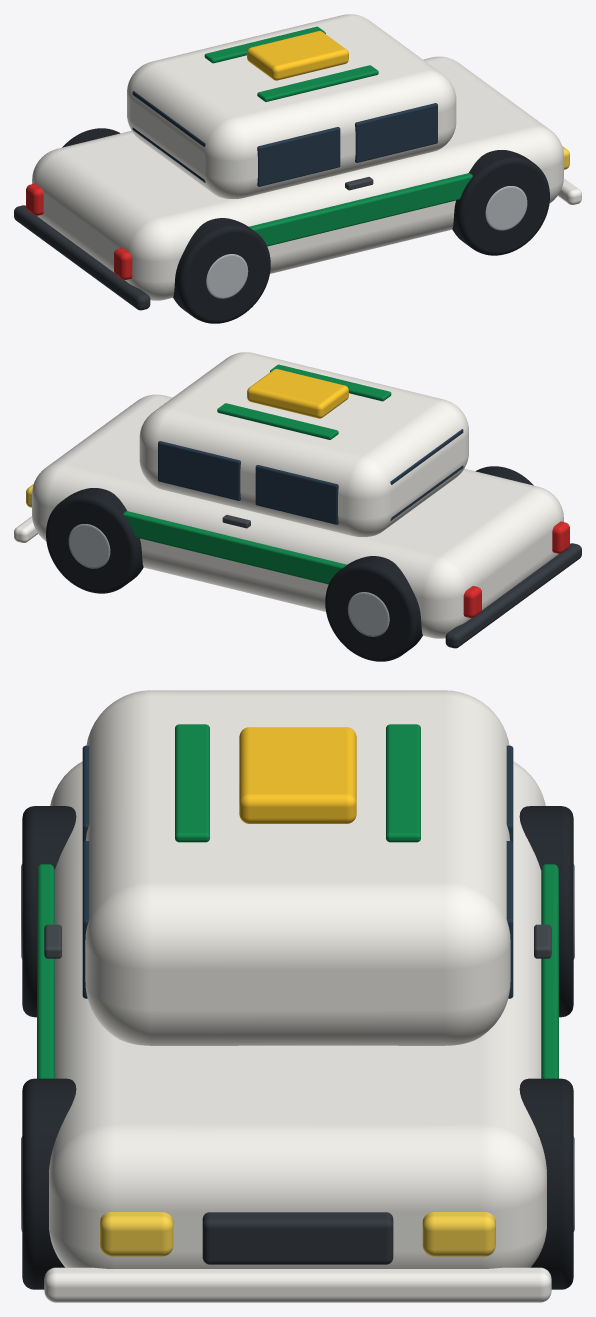
File: taxi.glb
3 views of the same model, one above another, from view 1: azimuth 30°, elevation 25°; view 2: azimuth 150°, elevation 25°; view 3: azimuth 270°, elevation 25° (orthographic). The views are drawn at different scales.
Visible parts, largest first — view 1: taxi (×9); view 2: taxi (×9); view 3: taxi (×9).
Part boxes in pixels (<box>): taxi (×9): <box>14,14,581,323</box>; taxi (×9): <box>14,352,581,661</box>; taxi (×9): <box>22,690,573,1302</box>.
Bounding box in the file's own units: 0.071 × 0.0288 × 0.0378.
